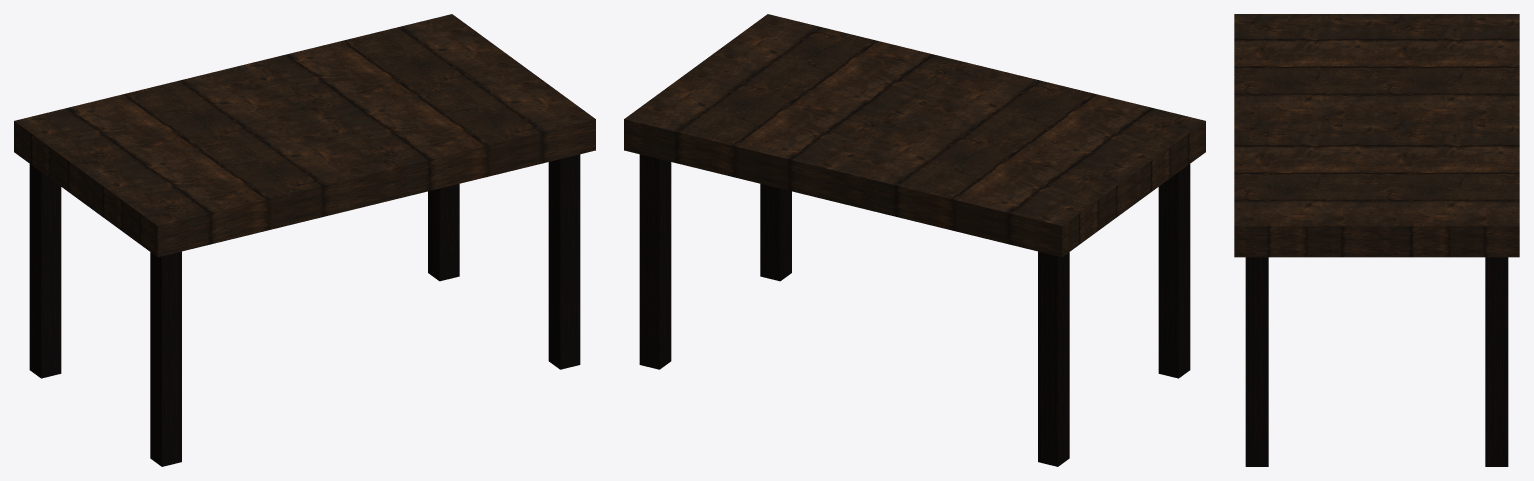
The picture shows the model from 3 angles, left to right: view 1: azimuth 30°, elevation 25°; view 2: azimuth 150°, elevation 25°; view 3: azimuth 270°, elevation 25°; orthographic projection.
Parts seen in each view (by area): view 1: fixture-D-medical; view 2: fixture-D-medical; view 3: fixture-D-medical.
Part boxes in pixels (<box>): fixture-D-medical: <box>14,14,595,466</box>; fixture-D-medical: <box>624,14,1205,466</box>; fixture-D-medical: <box>1234,14,1519,466</box>.
Size of the model in its own units: 1.76 by 0.95 by 1.
Materials: 2 (2 with a texture image).
